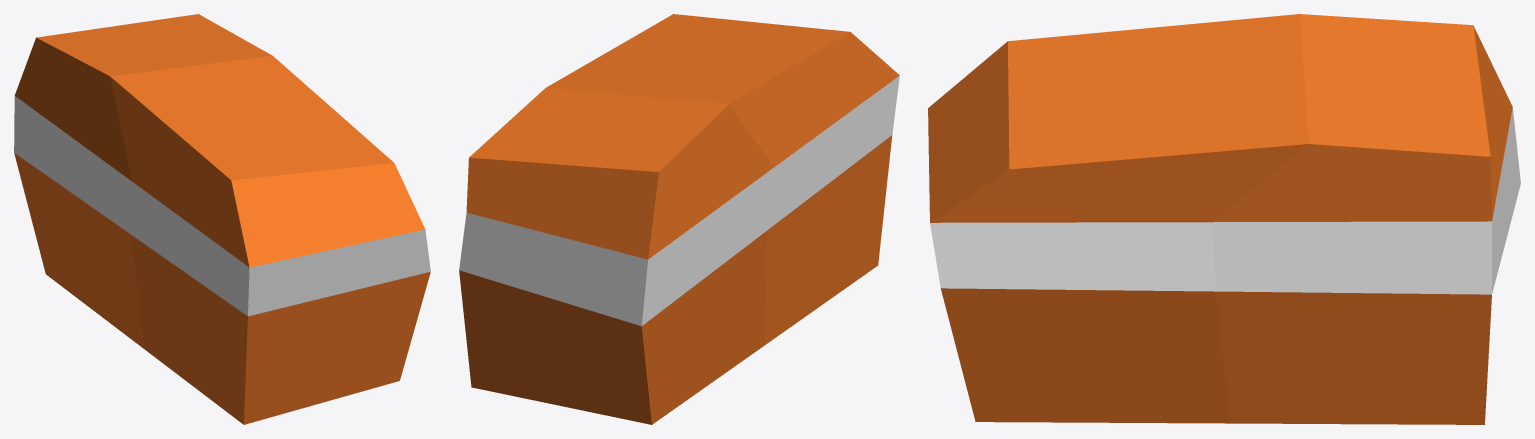
Rendered from DesertRock06.glb.
3 renders of one model, left to right at view 1: azimuth 30°, elevation 25°; view 2: azimuth 150°, elevation 25°; view 3: azimuth 270°, elevation 25°, orthographic. The views are drawn at different scales.
Parts seen in each view (by area): view 1: DesertRock06; view 2: DesertRock06; view 3: DesertRock06.
Part boxes in pixels (bbox=[...]): DesertRock06: bbox=[14, 14, 430, 424]; DesertRock06: bbox=[459, 14, 899, 424]; DesertRock06: bbox=[928, 14, 1520, 424].
Bounding box in the file's own units: 1.83 × 2.32 × 4.02.
Materials: 1 (1 with a texture image).
